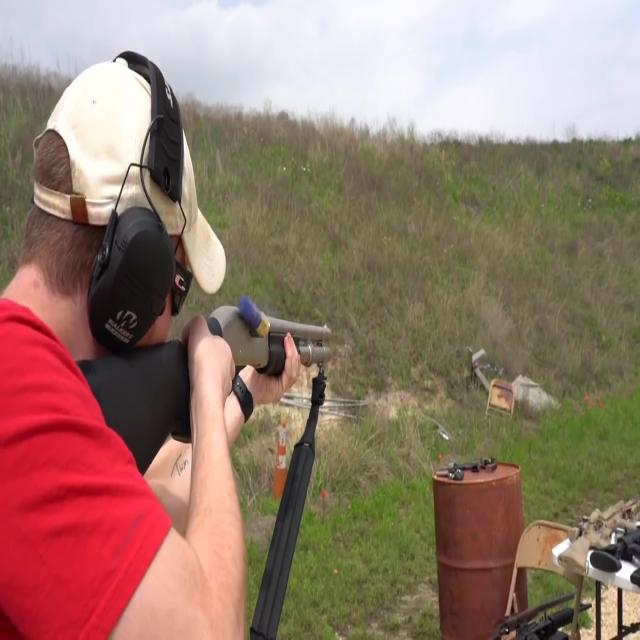Weapon: (41, 292, 366, 520), (552, 490, 640, 590), (471, 589, 640, 639), (424, 437, 509, 496)
